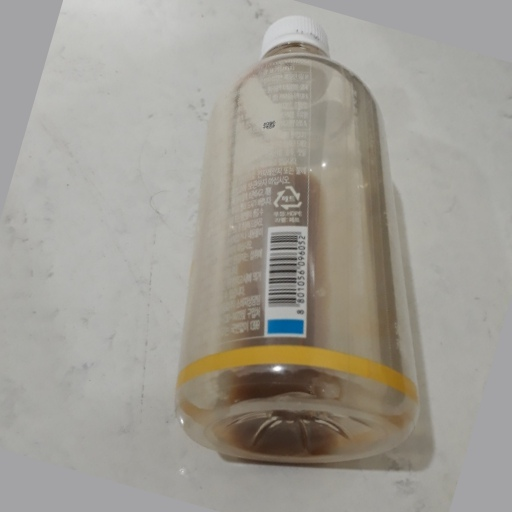Plastic_0: (181, 14, 421, 468)
